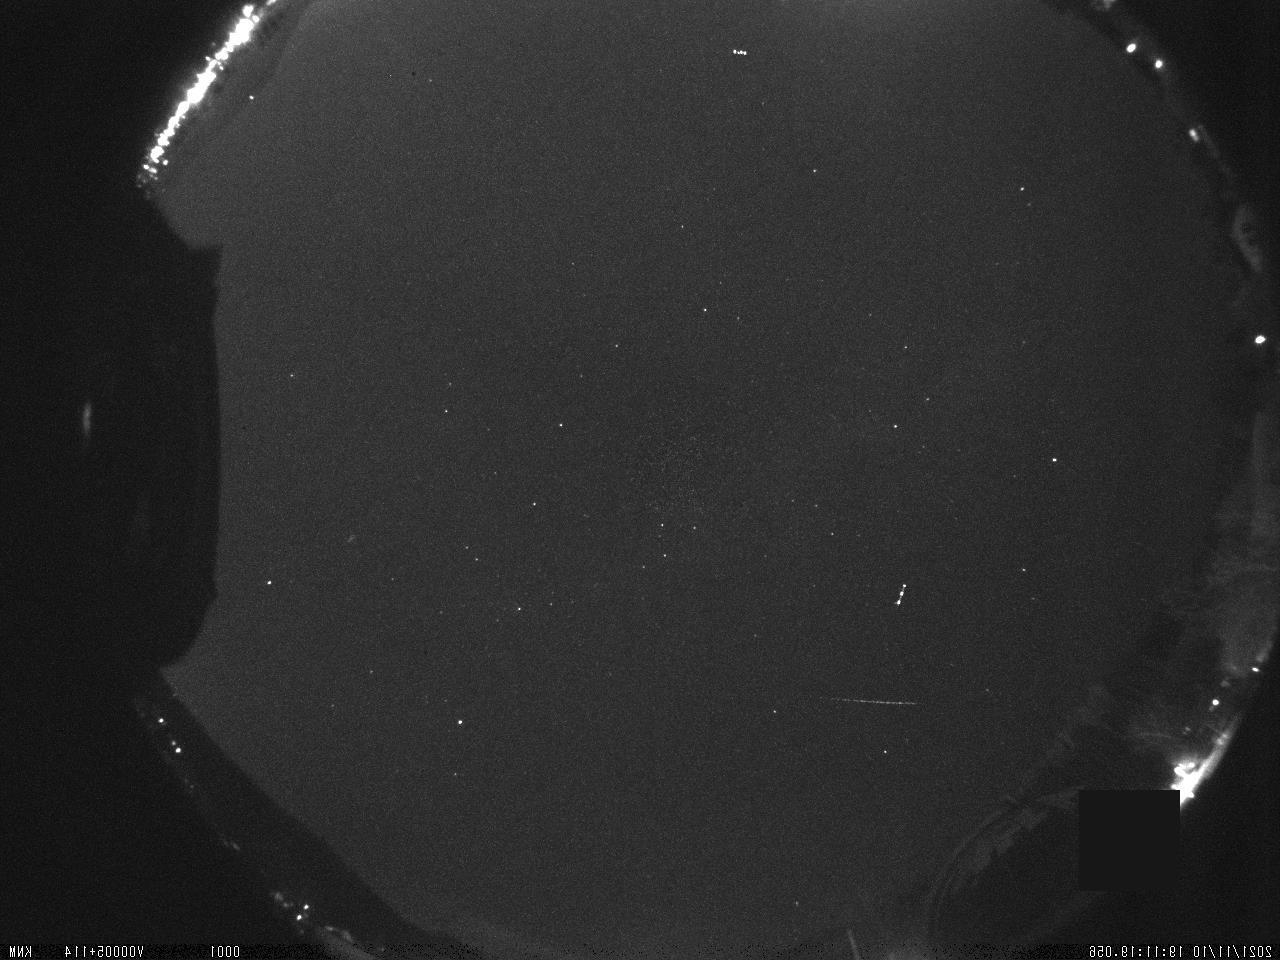meteor: (798, 679, 948, 720)
